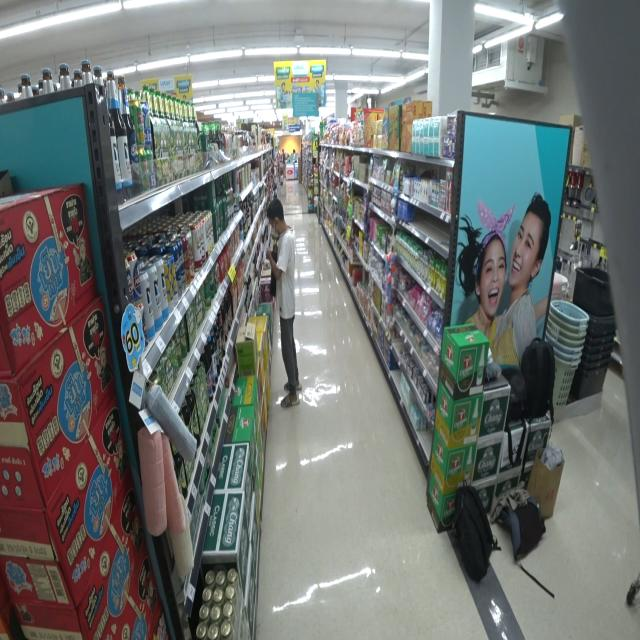shoplifting: (258, 194, 300, 405)
